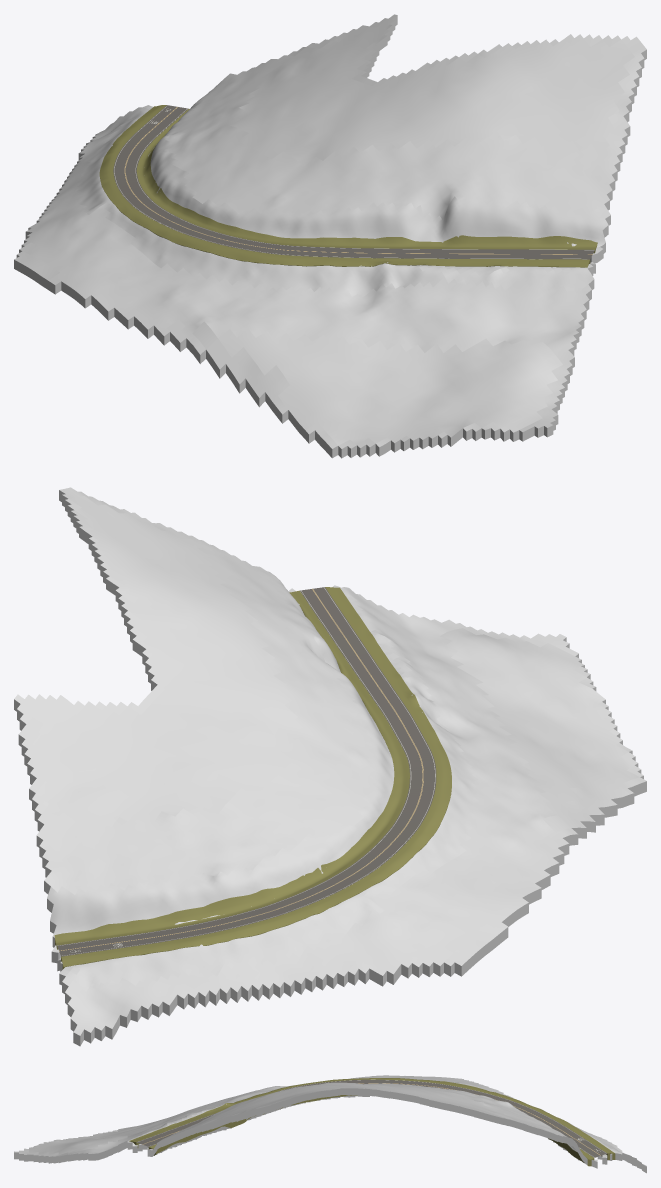
The model's file is conz_74.glb.
3 renders of one model, top to bottom at view 1: azimuth 30°, elevation 25°; view 2: azimuth 150°, elevation 25°; view 3: azimuth 270°, elevation 25°, orthographic. The views are drawn at different scales.
Parts seen in each view (by area): view 1: terrain74, road74, verge74L, verge74R, paint_white74; view 2: terrain74, road74, verge74L, verge74R, paint_white74, paint_yellow74; view 3: terrain74, road74, verge74L, verge74R, paint_white74, paint_yellow74.
Boxes of the visible parts, x1,y1,x2,y2 form: terrain74: (14,14,646,458); road74: (113,105,594,259); verge74L: (99,105,590,267); verge74R: (136,109,597,253); paint_white74: (114,105,594,258); terrain74: (14,487,646,1046); road74: (57,587,436,956); verge74L: (61,587,451,969); verge74R: (54,590,409,949); paint_white74: (57,587,435,955); paint_yellow74: (59,588,423,951); terrain74: (14,1075,646,1173); road74: (136,1079,606,1157); verge74L: (129,1078,615,1160); verge74R: (148,1095,594,1166); paint_white74: (138,1079,606,1157); paint_yellow74: (142,1083,600,1155).
Size of the model in its own units: 164 by 78.11 by 256.
